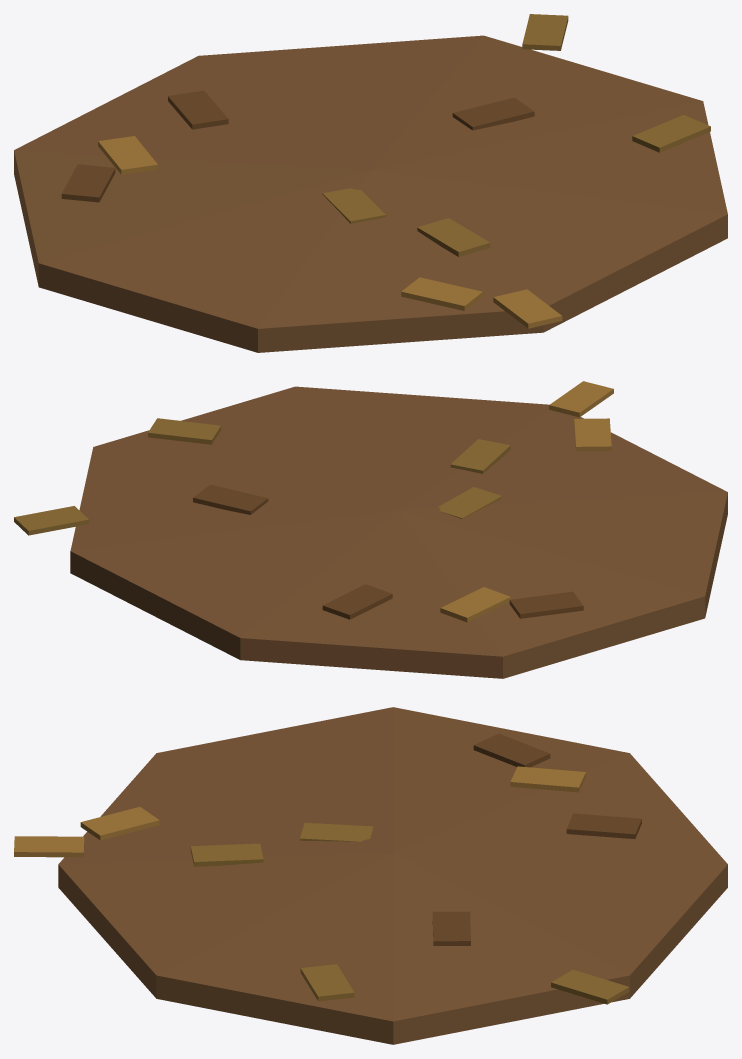
File: cover_leaf_litter.glb
3 views of the same model, one above another, from view 1: azimuth 30°, elevation 25°; view 2: azimuth 150°, elevation 25°; view 3: azimuth 270°, elevation 25° (orthographic). The views are drawn at different scales.
Visible parts, largest first — view 1: cover_leaf_litter; view 2: cover_leaf_litter; view 3: cover_leaf_litter.
Boxes of the visible parts, x1,y1,x2,y2 form: cover_leaf_litter: (14,14,727,352); cover_leaf_litter: (14,381,727,678); cover_leaf_litter: (14,707,727,1044).
Bounding box in the file's own units: 1.39 × 0.096 × 1.33.
